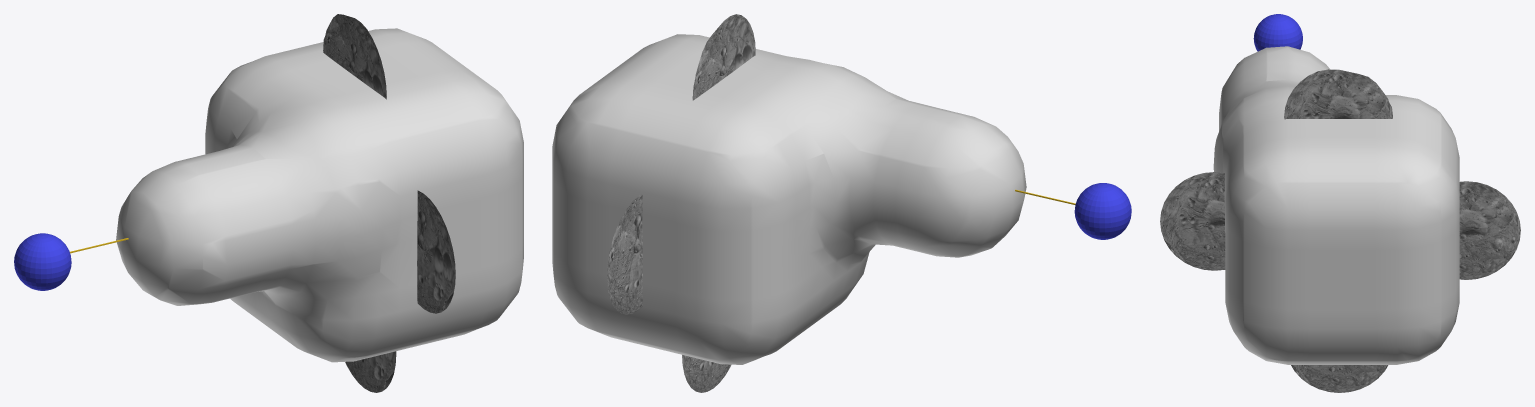
Rendered from satellite14.glb.
3 renders of one model, left to right at view 1: azimuth 30°, elevation 25°; view 2: azimuth 150°, elevation 25°; view 3: azimuth 270°, elevation 25°, orthographic. The views are drawn at different scales.
Parts seen in each view (by area): view 1: Mball.002, Sphere.003, Sphere.002, Sphere, Sphere.004; view 2: Mball.002, Sphere.001, Sphere.002, Sphere, Sphere.004; view 3: Mball.002, Sphere.003, Sphere.001, Sphere.002, Sphere.004, Sphere.
Part boxes in pixels (bbox=[...]): Mball.002: bbox=[116, 28, 523, 362]; Sphere.003: bbox=[417, 190, 455, 313]; Sphere.002: bbox=[323, 14, 386, 99]; Sphere: bbox=[14, 233, 71, 290]; Sphere.004: bbox=[345, 351, 396, 392]; Mball.002: bbox=[552, 34, 1026, 364]; Sphere.001: bbox=[607, 194, 642, 314]; Sphere.002: bbox=[692, 14, 755, 100]; Sphere: bbox=[1074, 183, 1131, 239]; Sphere.004: bbox=[682, 355, 731, 392]; Mball.002: bbox=[1213, 46, 1459, 364]; Sphere.003: bbox=[1160, 172, 1225, 270]; Sphere.001: bbox=[1459, 181, 1520, 279]; Sphere.002: bbox=[1284, 69, 1392, 119]; Sphere.004: bbox=[1291, 365, 1388, 392]; Sphere: bbox=[1253, 14, 1302, 51].
Size of the model in its own units: 9.12 by 6.47 by 6.62.
7 materials, 4 textured.
